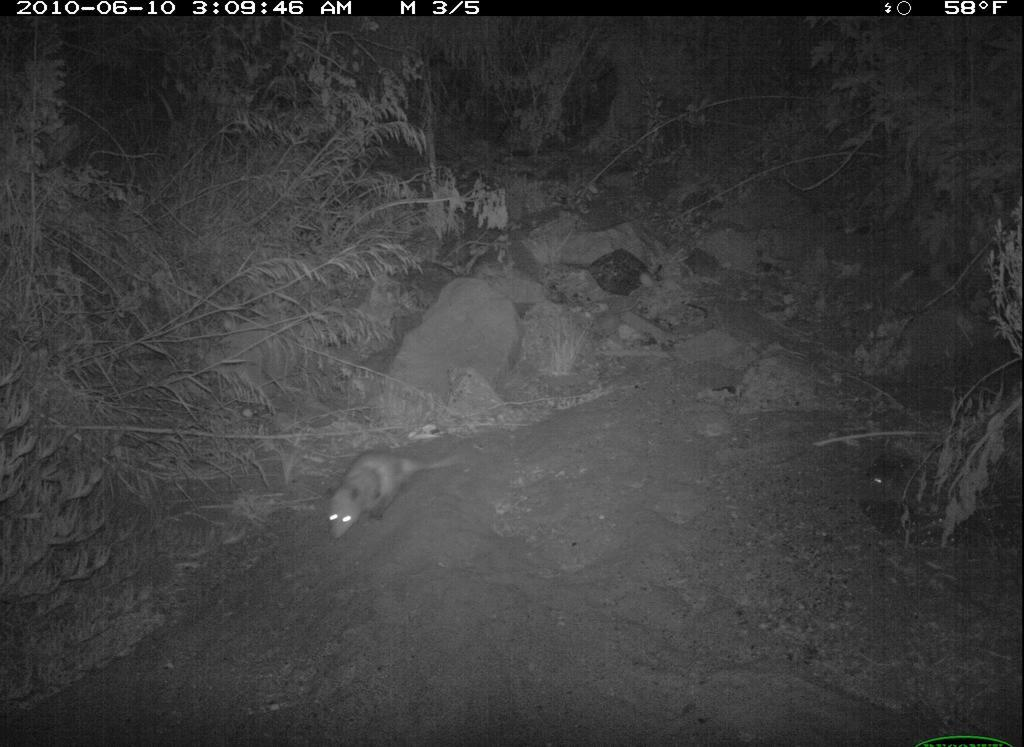opossum: (318, 442, 481, 546)
